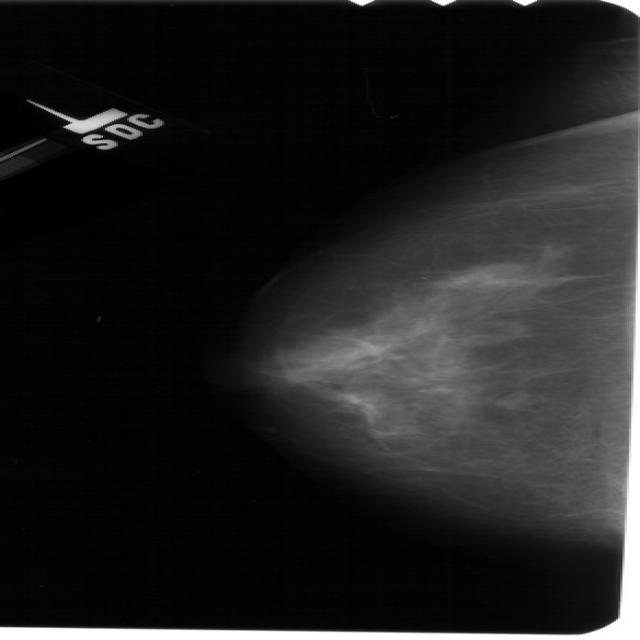tumour: (489, 390, 530, 409)
